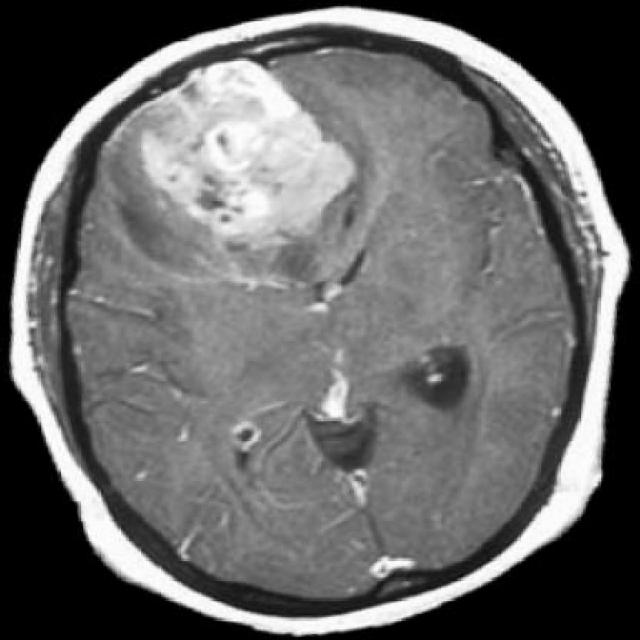Brain-Tumor: (94, 50, 397, 310)
